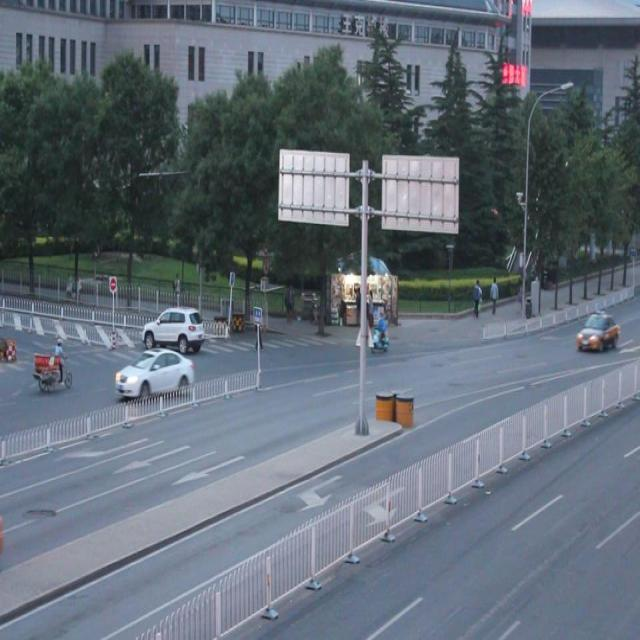car: (117, 348, 193, 400), (143, 308, 204, 352), (576, 312, 619, 353)
